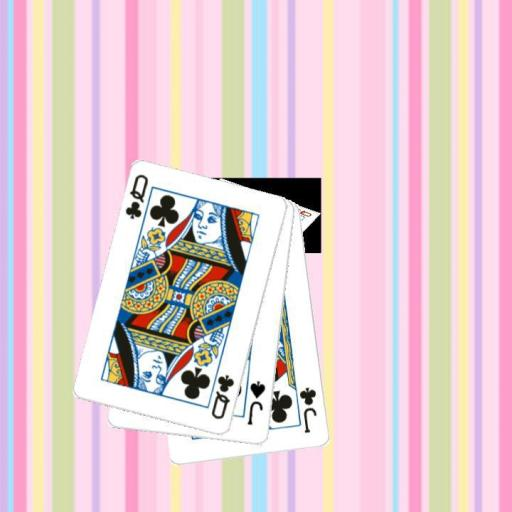JC: (297, 385, 319, 435)
JS: (245, 378, 268, 427)
QC: (208, 371, 236, 421), (122, 172, 150, 222)
